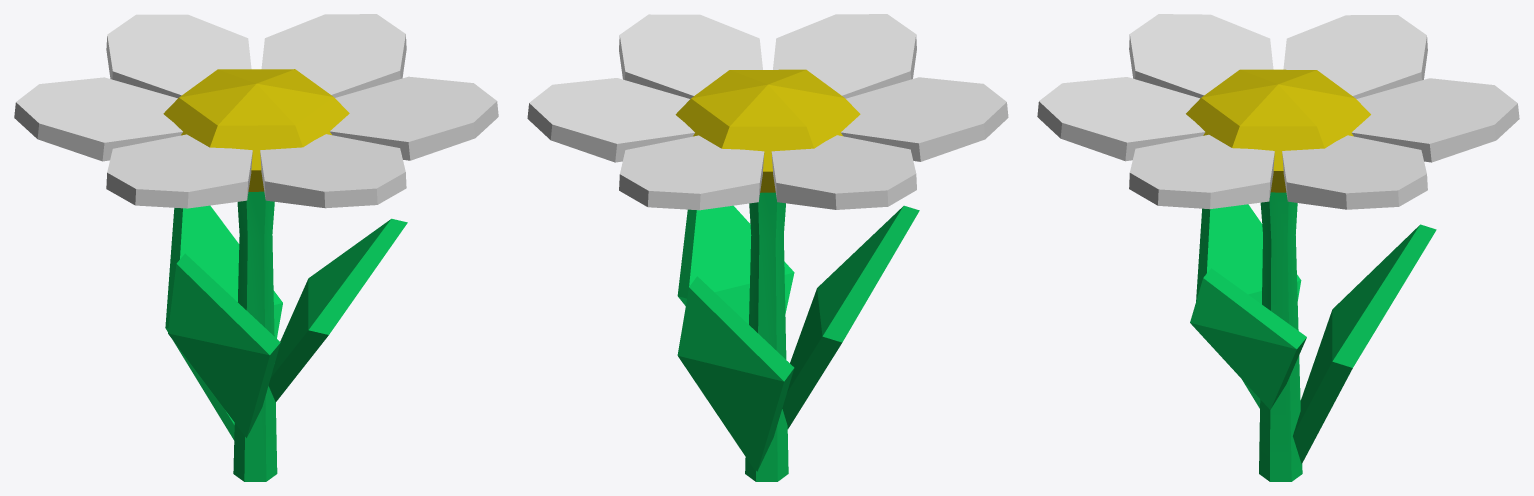
The model's file is Flower03.fbx.
3 views of the same model, side by side, from view 1: azimuth 30°, elevation 25°; view 2: azimuth 150°, elevation 25°; view 3: azimuth 270°, elevation 25° (orthographic).
Visible parts, largest first — view 1: Cylinder; view 2: Cylinder; view 3: Cylinder.
Part boxes in pixels (left/top/right/bottom): Cylinder: left=14, top=14, right=498, bottom=481; Cylinder: left=527, top=14, right=1008, bottom=481; Cylinder: left=1037, top=14, right=1519, bottom=481.
Bounding box in the file's own units: 28.33 × 28.7 × 32.19.
